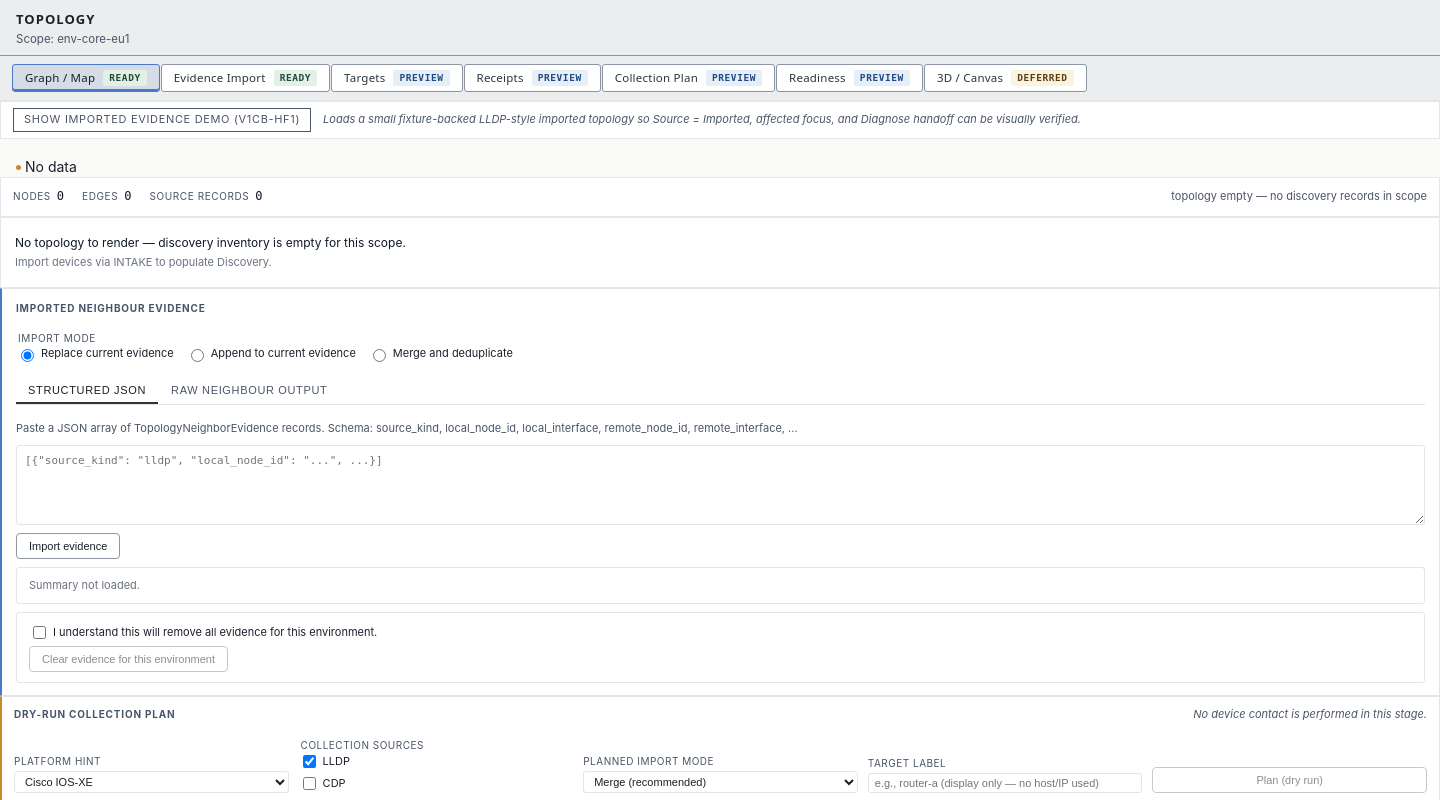
TopologyMode › TopologyMode — V1AQ Platform hint selector (UI) › selecting nxos lldp and importing sends platform_hint nxos
Click the tab with test id "tm-evidence-tab-raw": click(249, 391) [159, 378, 340, 404]
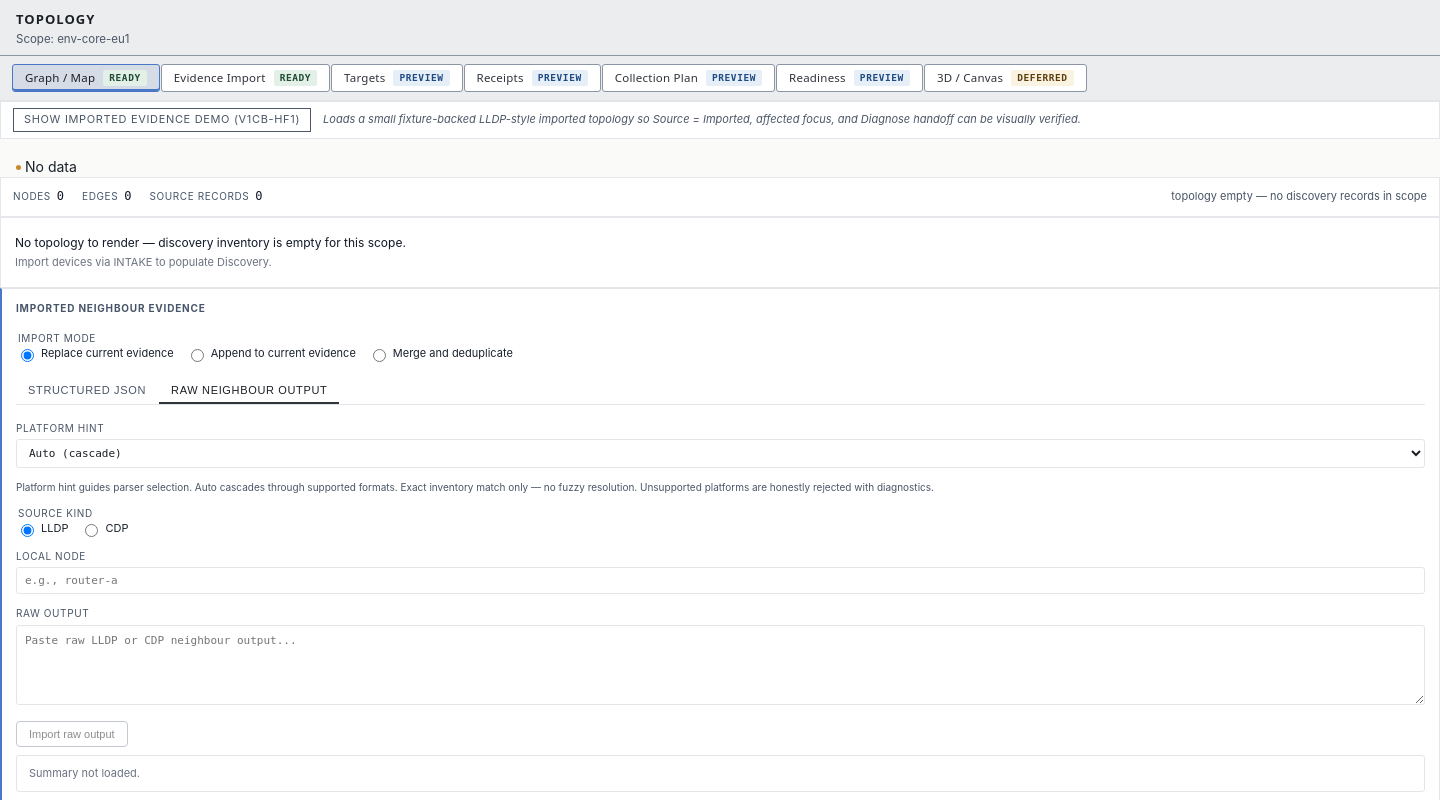
Select "Cisco NX-OS" in the dropdown with test id "tm-raw-platform-hint": (720, 454) [16, 439, 1425, 468]
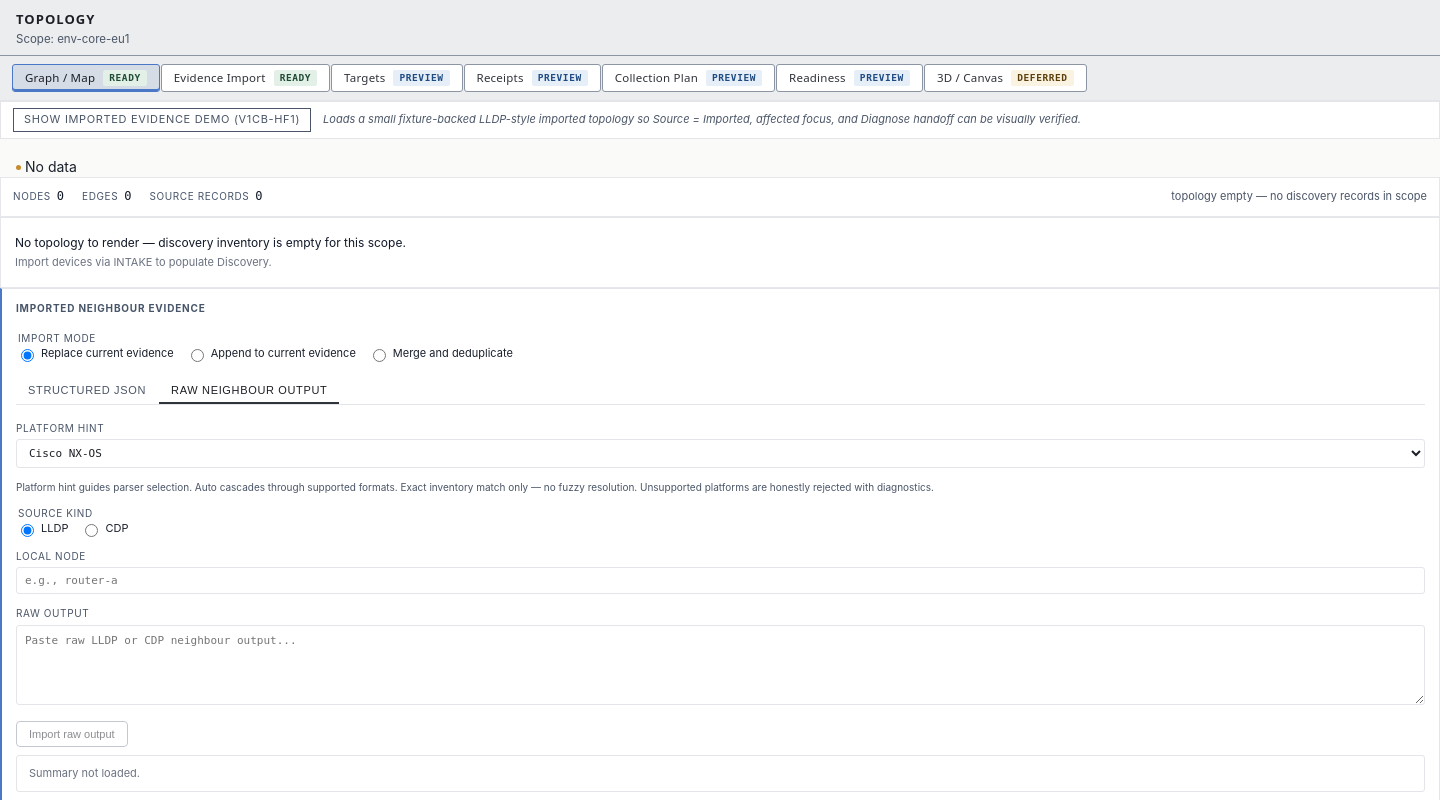
In the field with test id "tm-raw-local-node": (720, 581) [16, 567, 1425, 594], type "router-a"
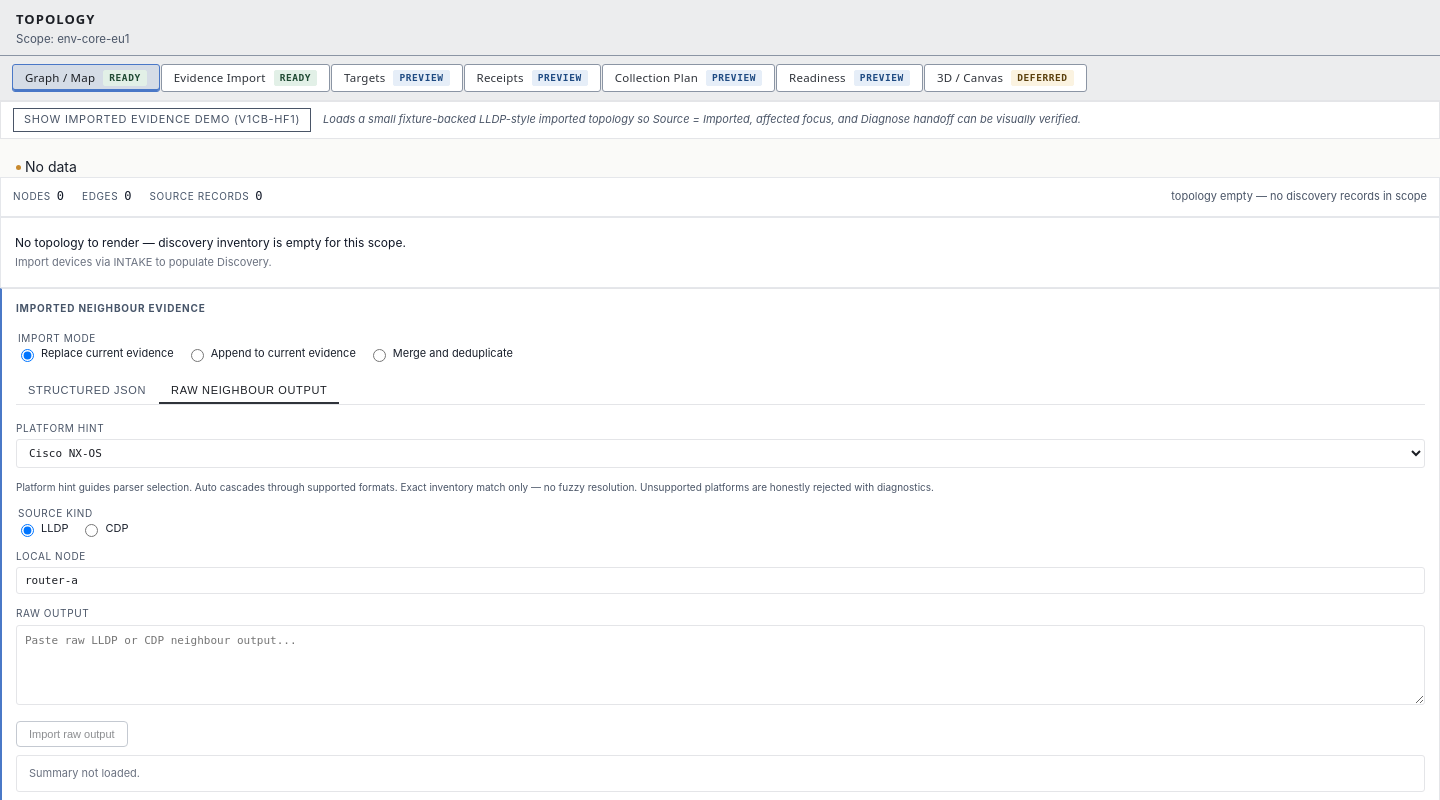
In the text box with test id "tm-raw-output-textarea": (720, 665) [16, 625, 1425, 705], type "synthetic nxos lldp output"
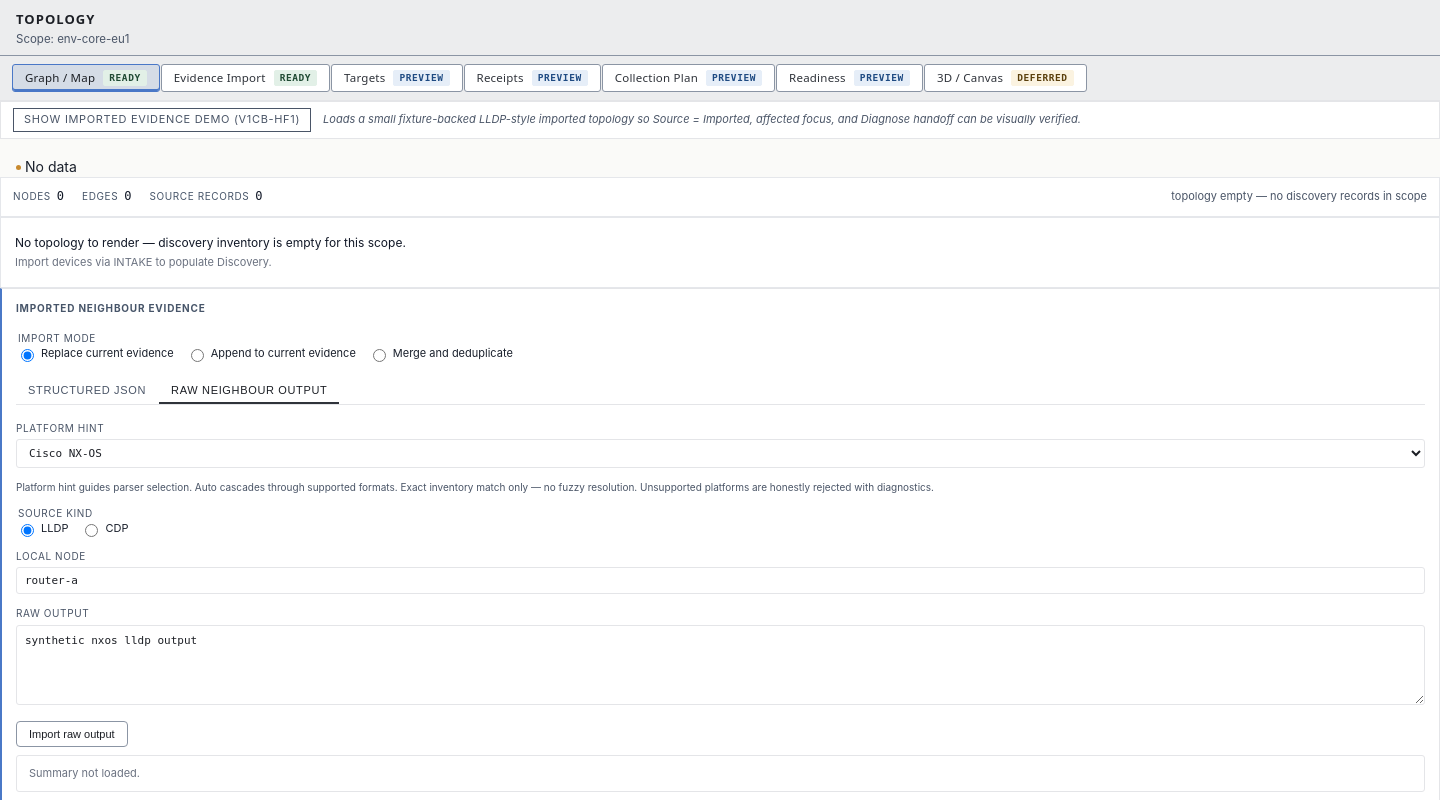
Click the button with test id "tm-raw-import-button": click(72, 734) [16, 721, 128, 747]
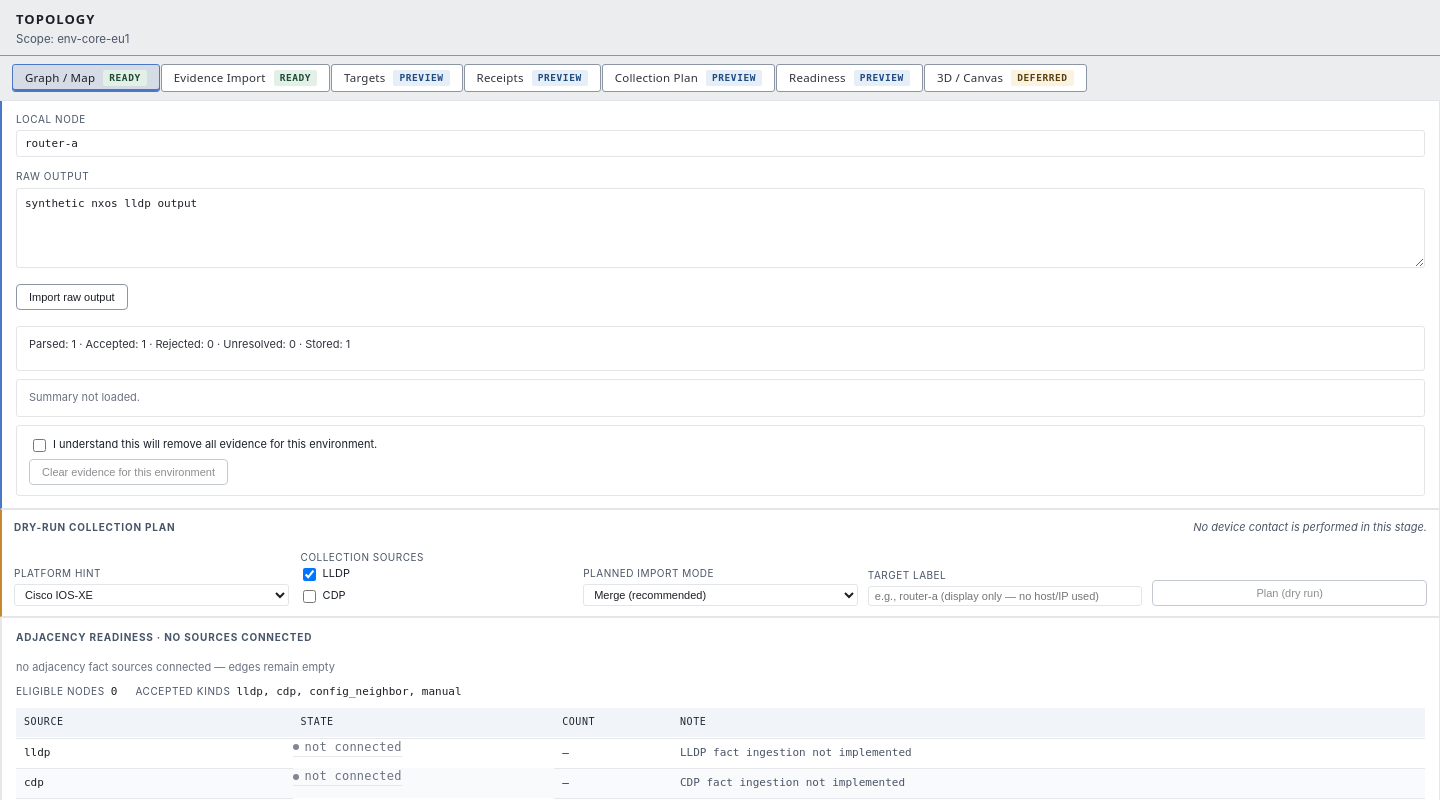
Expected: the cell "lldp" is shown, [16, 738, 293, 768]
